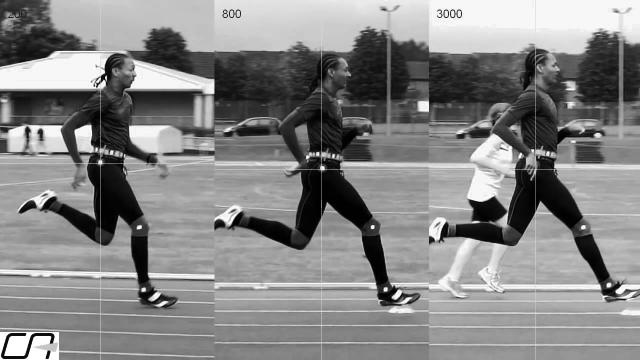berlari: (215, 48, 423, 312), (429, 49, 635, 308), (9, 46, 181, 318)
